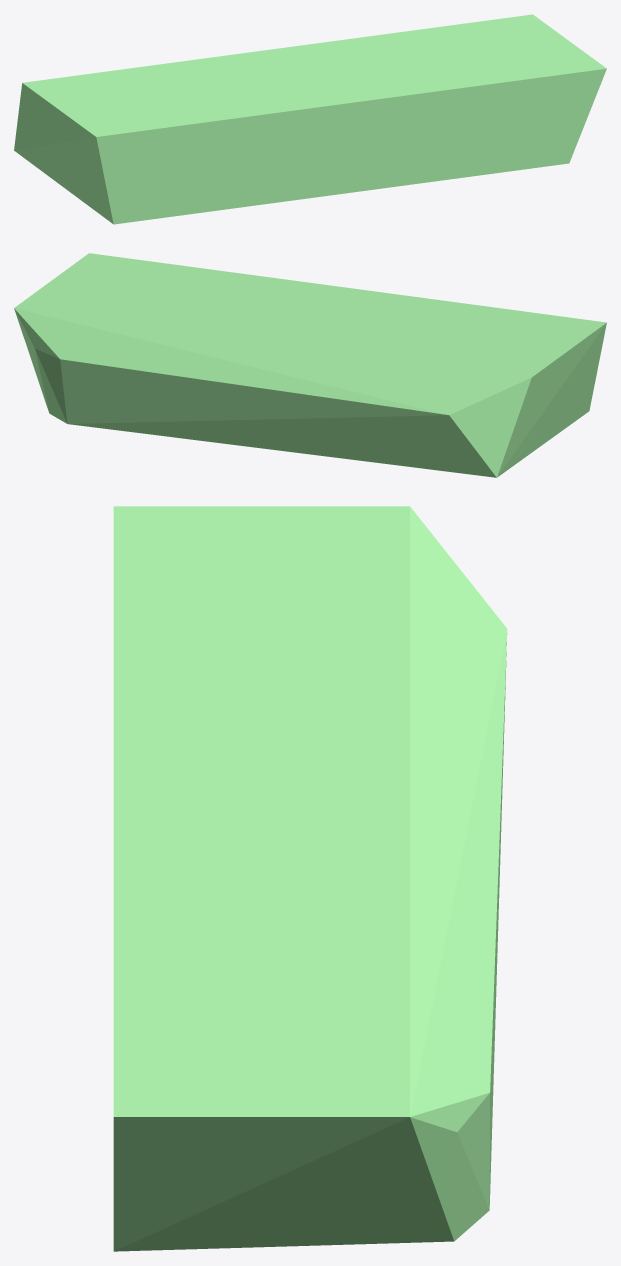
File: UMIRobot_robot_base_coll_17.dae
The picture shows the model from 3 angles, top to bottom: view 1: azimuth 30°, elevation 25°; view 2: azimuth 150°, elevation 25°; view 3: azimuth 270°, elevation 25°; orthographic projection. The views are drawn at different scales.
Visible parts, largest first — view 1: node; view 2: node; view 3: node.
Part boxes in pixels (bbox=[...]): node: bbox=[14, 14, 606, 224]; node: bbox=[14, 253, 606, 477]; node: bbox=[113, 506, 507, 1251].
Size of the model in its own units: 0.0597 by 0.0158 by 0.0199.
